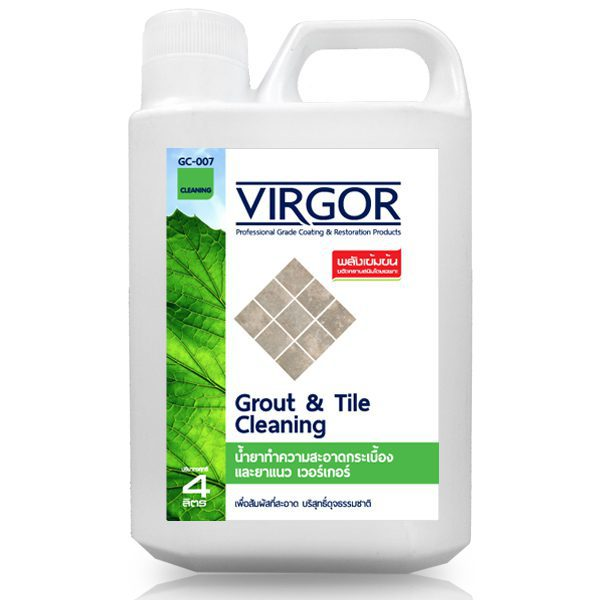Cleaning_solution: (126, 3, 477, 580)
